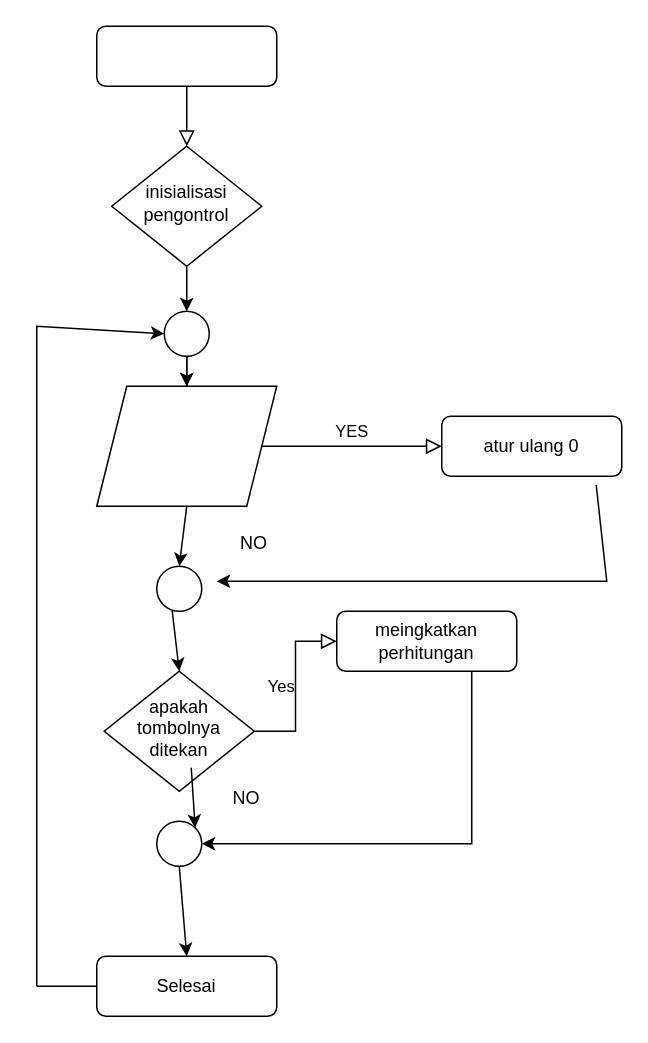
Some shapes in this 648 by 1043 pixel diagram are drawn without their labels. The centre of each missing label's shape, as x and y in pixels:
apakah perhitungannya sudah meluap: [186,445]
Start: [186,55]
